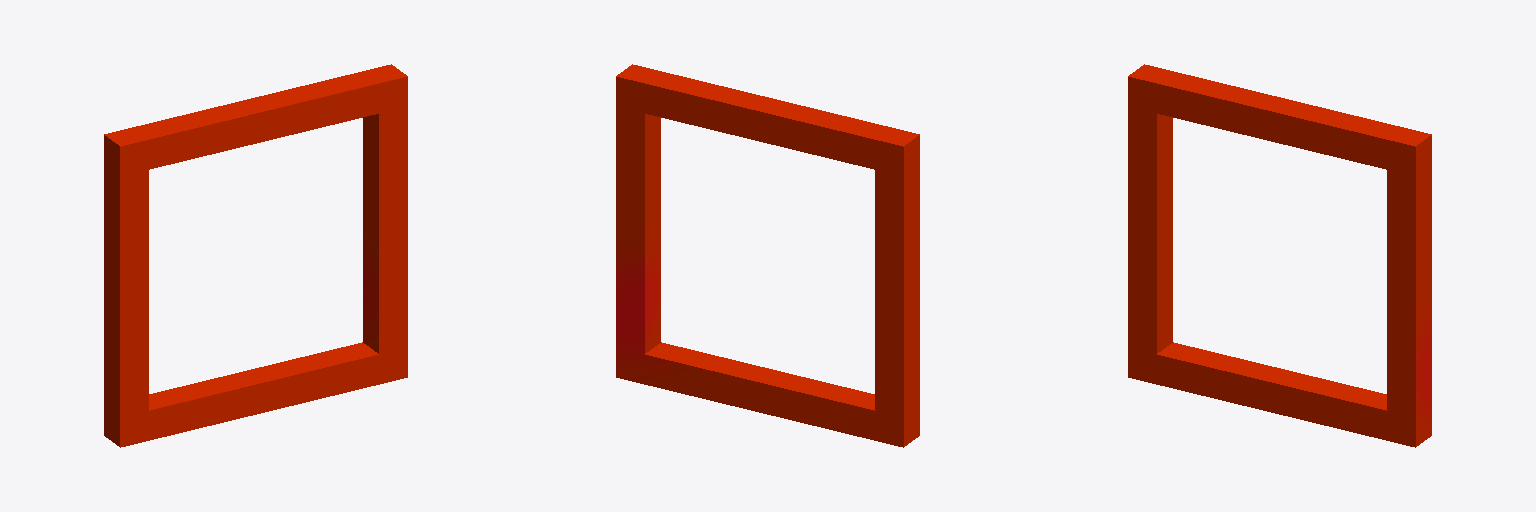
3 views of the same model, side by side, from view 1: azimuth 30°, elevation 25°; view 2: azimuth 150°, elevation 25°; view 3: azimuth 330°, elevation 25° (orthographic).
Visible parts, largest first — view 1: 立方体; view 2: 立方体; view 3: 立方体.
Part boxes in pixels (x1,y1,x2,y2): 立方体: (104,64,407,447); 立方体: (616,64,919,447); 立方体: (1128,64,1431,447).
Bounding box in the file's own units: 1 × 1 × 0.1.
Materials: 1 (1 with a texture image).